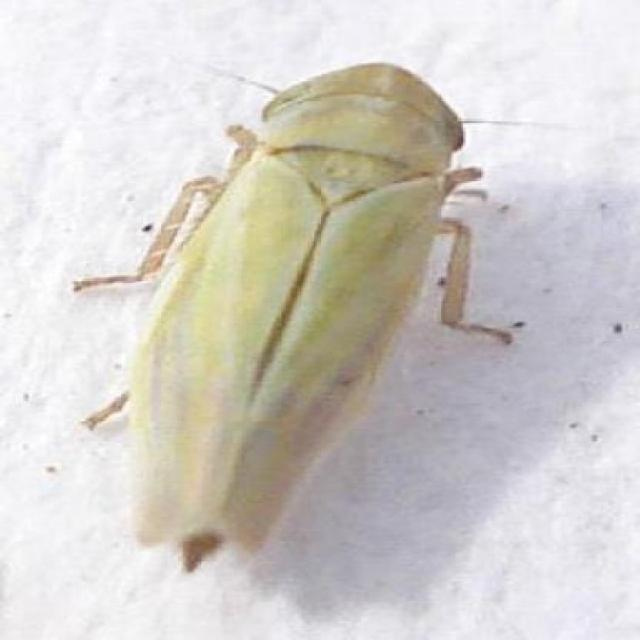green-leafhopper: (129, 63, 485, 557)
